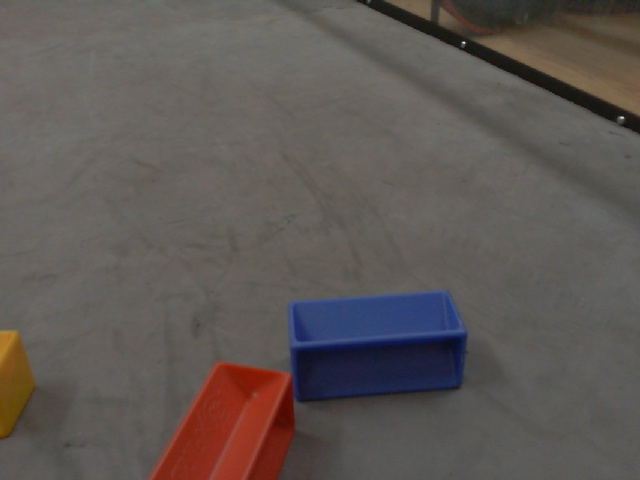BlueSample: (278, 288, 471, 405)
RedSample: (137, 357, 300, 476)
YellowSample: (1, 324, 38, 438)
